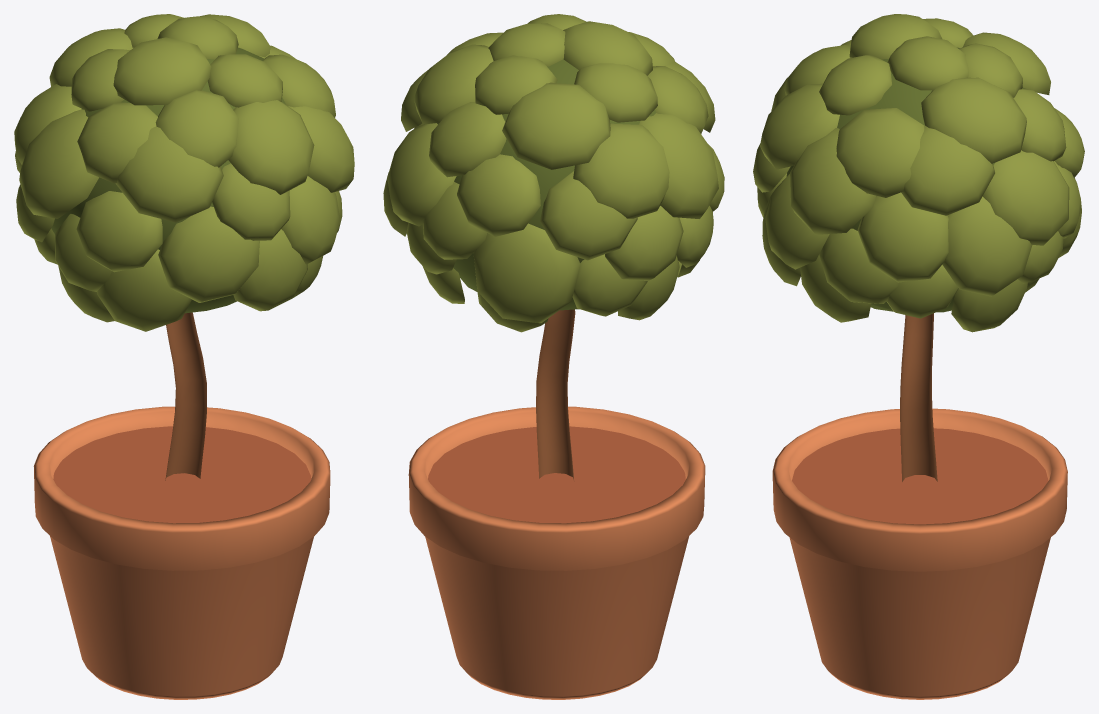
File: PROP_POT_TREE.glb
3 renders of one model, left to right at view 1: azimuth 30°, elevation 25°; view 2: azimuth 150°, elevation 25°; view 3: azimuth 270°, elevation 25°, orthographic.
Parts seen in each view (by area): view 1: topiary_leaves, pot, soil, trunk, topiary_core; view 2: topiary_leaves, pot, soil, trunk, topiary_core; view 3: topiary_leaves, pot, soil, trunk, topiary_core.
Part boxes in pixels (bbox=[...]): topiary_leaves: bbox=[14, 14, 354, 331]; pot: bbox=[33, 406, 330, 699]; soil: bbox=[53, 426, 310, 523]; trunk: bbox=[165, 312, 206, 480]; topiary_core: bbox=[51, 47, 285, 313]; topiary_leaves: bbox=[383, 14, 724, 332]; pot: bbox=[408, 406, 705, 699]; soil: bbox=[428, 426, 685, 523]; trunk: bbox=[536, 309, 575, 481]; topiary_core: bbox=[437, 59, 655, 310]; topiary_leaves: bbox=[753, 14, 1084, 332]; pot: bbox=[772, 408, 1067, 699]; soil: bbox=[792, 428, 1048, 524]; trunk: bbox=[900, 313, 937, 481]; topiary_core: bbox=[786, 47, 1024, 312].
Bounding box in the file's own units: 3.28 × 6.55 × 3.15.
